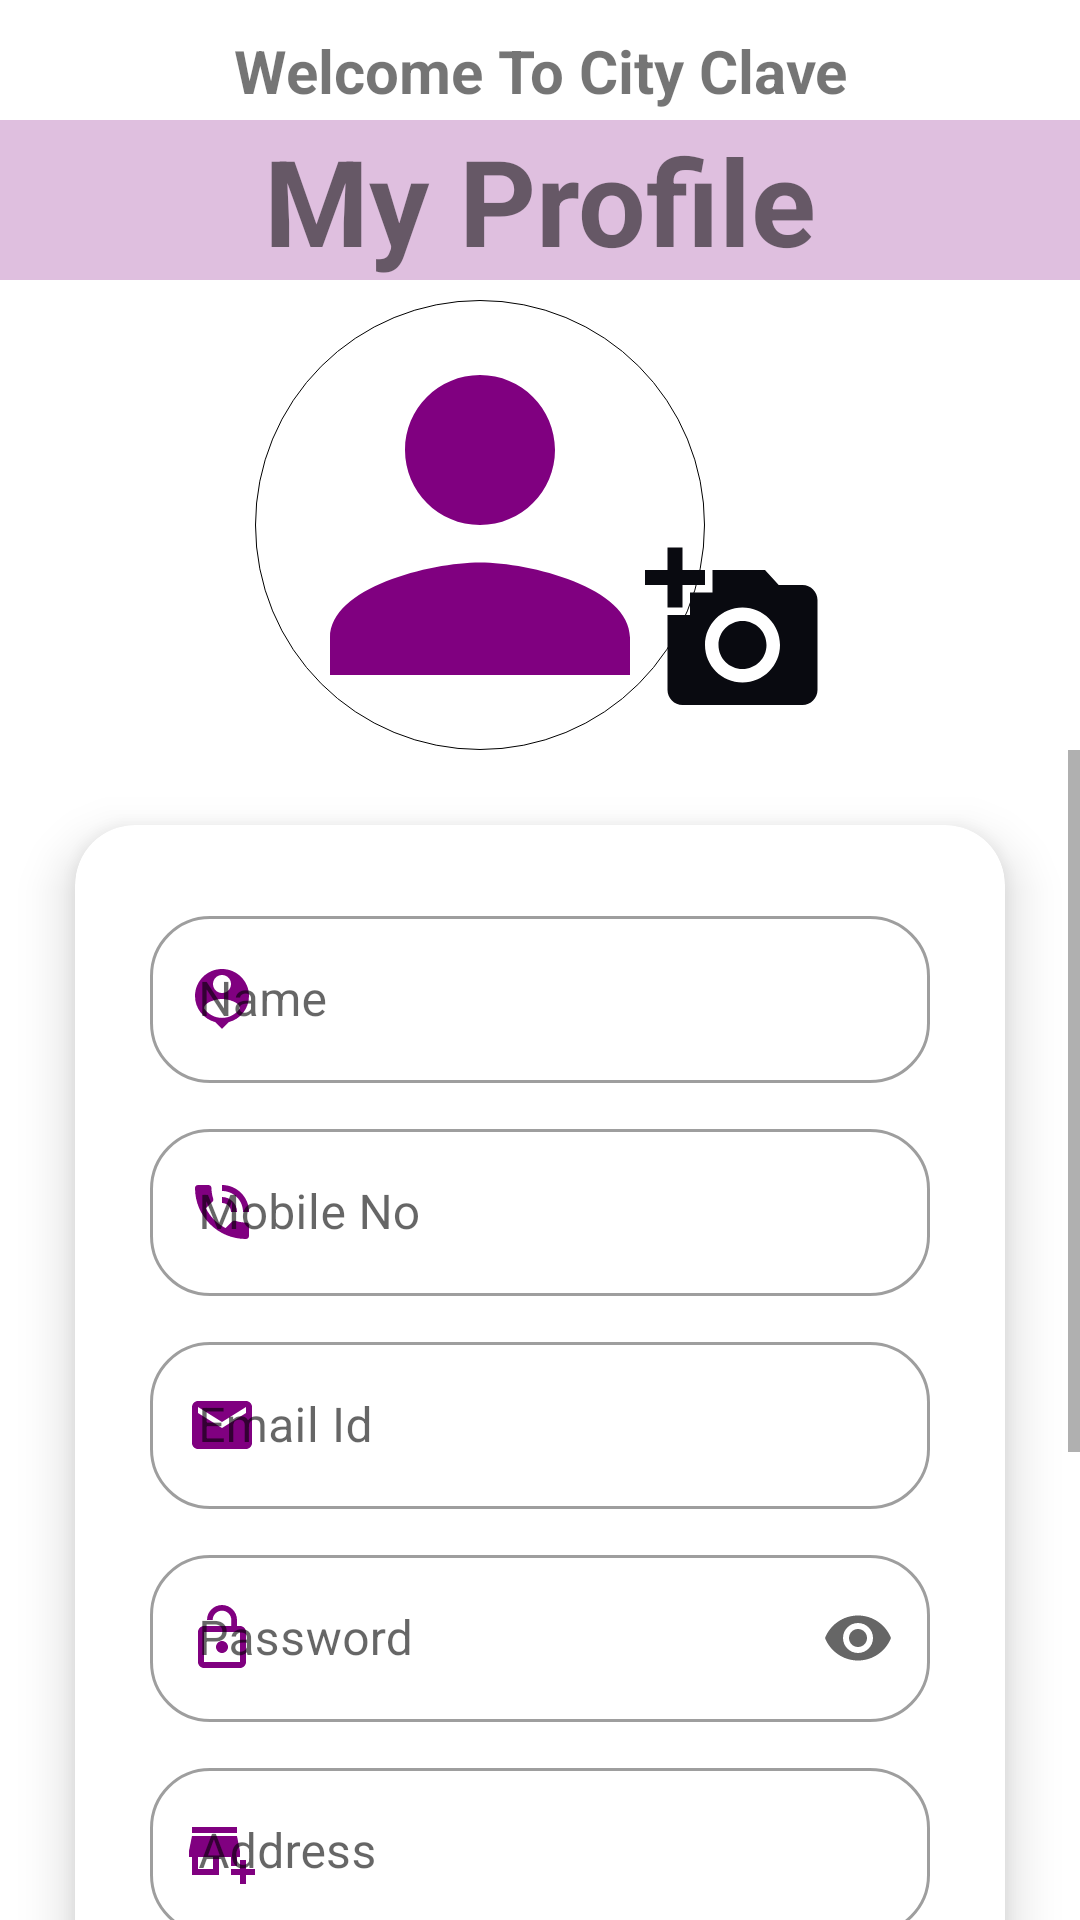

Icons on this 1080 × 1920 Android screen, each with the point to tap as (x=x, y=y):
addphoto: (x=731, y=622)
